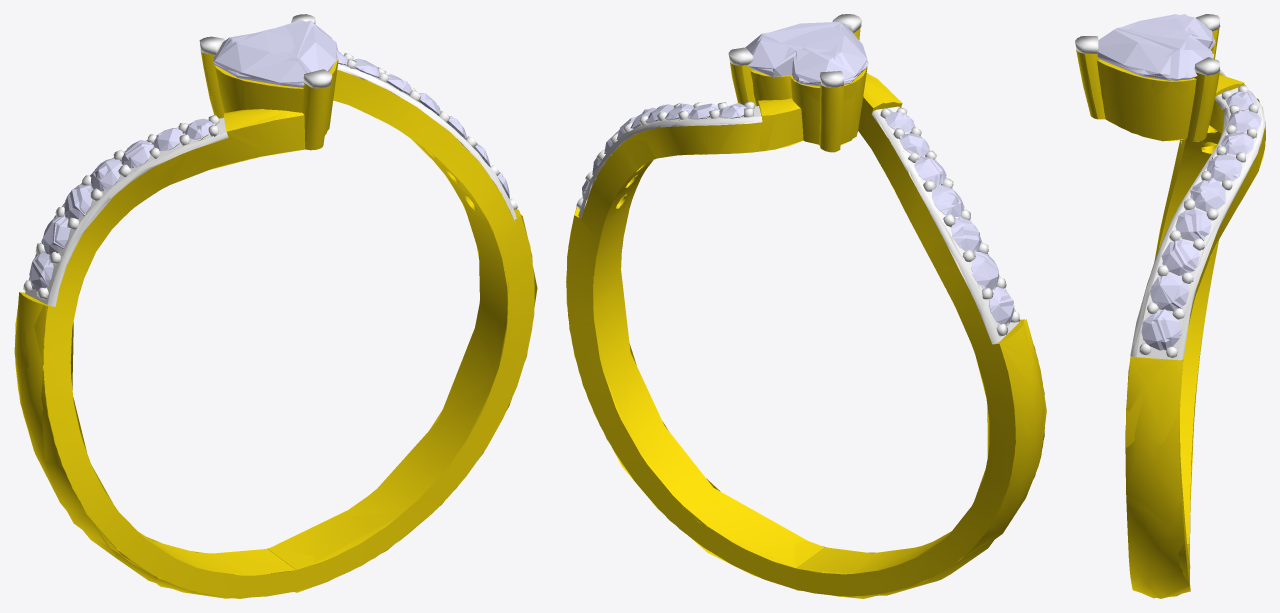
The model's file is DLR-D000679370.glb.
The picture shows the model from 3 angles, left to right: view 1: azimuth 30°, elevation 25°; view 2: azimuth 150°, elevation 25°; view 3: azimuth 270°, elevation 25°; orthographic projection.
Visible parts, largest first — view 1: highPolyMesh, lowPolyMesh; view 2: highPolyMesh, lowPolyMesh; view 3: highPolyMesh, lowPolyMesh.
Part boxes in pixels (x1=…): highPolyMesh: x1=14, y1=14, x2=534, y2=598; lowPolyMesh: x1=15, y1=14, x2=537, y2=598; highPolyMesh: x1=566, y1=14, x2=1044, y2=596; lowPolyMesh: x1=566, y1=14, x2=1046, y2=598; highPolyMesh: x1=1075, y1=14, x2=1265, y2=598; lowPolyMesh: x1=1075, y1=14, x2=1265, y2=598.
Size of the model in its own units: 0.0191 by 0.0209 by 0.00665.
